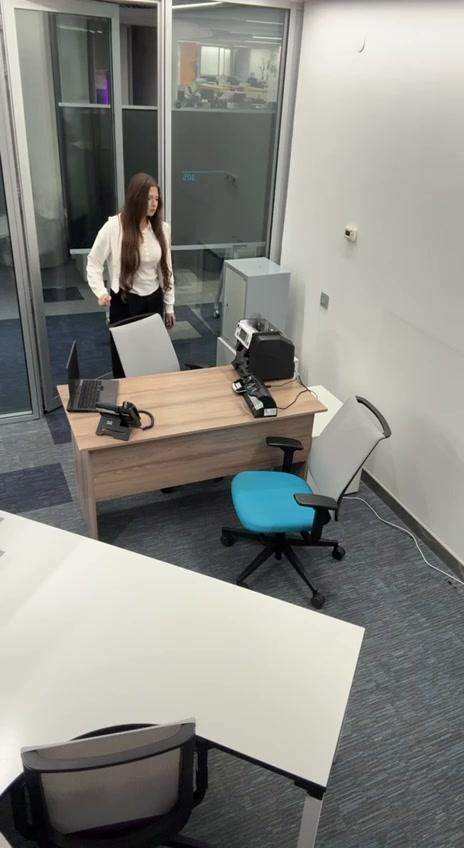counter: (231, 316, 298, 384)
door_open: (118, 3, 166, 376)
uv_lamp: (234, 375, 283, 420)
